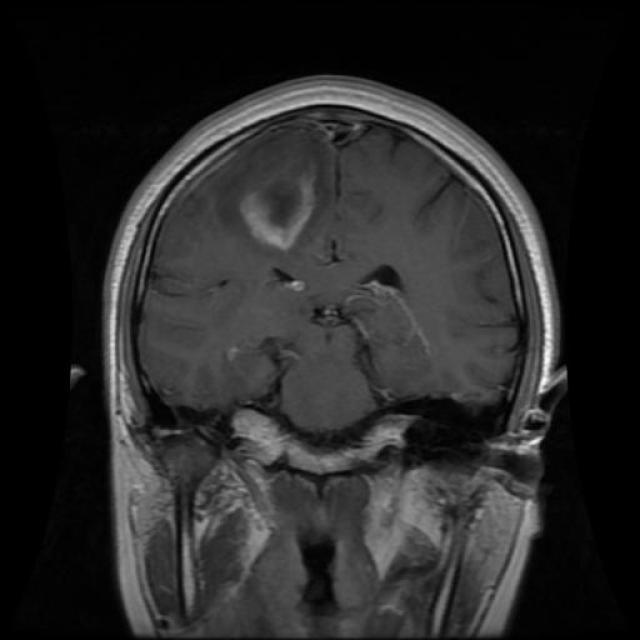glioma: (228, 130, 336, 258)
